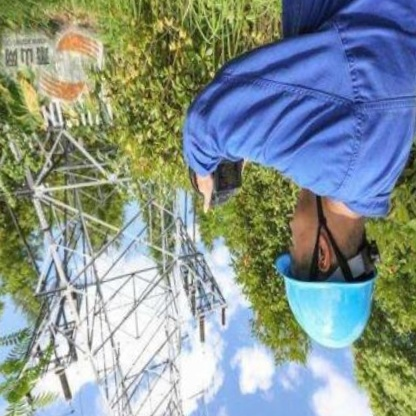blue: (269, 244, 387, 358)
